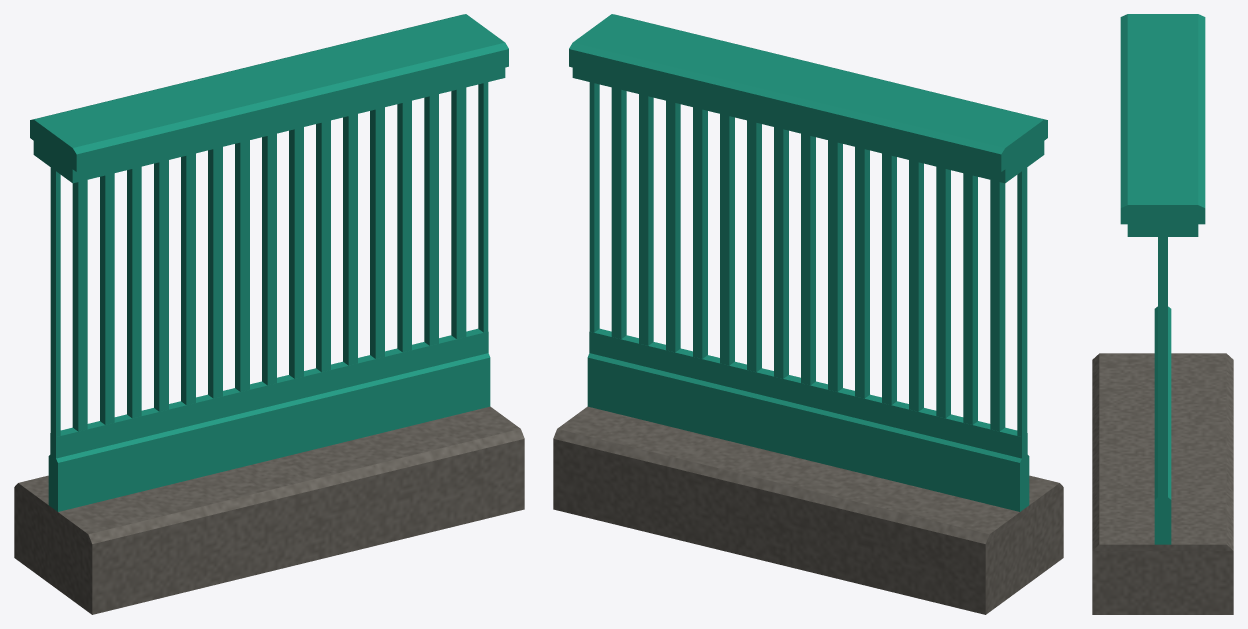
File: nyc_subway_entrance_1_fence_1.obj
The picture shows the model from 3 angles, left to right: view 1: azimuth 30°, elevation 25°; view 2: azimuth 150°, elevation 25°; view 3: azimuth 270°, elevation 25°; orthographic projection. The views are drawn at different scales.
Visible parts, largest first — view 1: cube; view 2: cube; view 3: cube.
Part boxes in pixels (x1,y1,x2,y2): cube: [14, 14, 524, 614]; cube: [553, 14, 1063, 614]; cube: [1092, 14, 1233, 614].
Bounding box in the file's own units: 1 × 1 × 0.3125.
2 materials, 2 textured.
